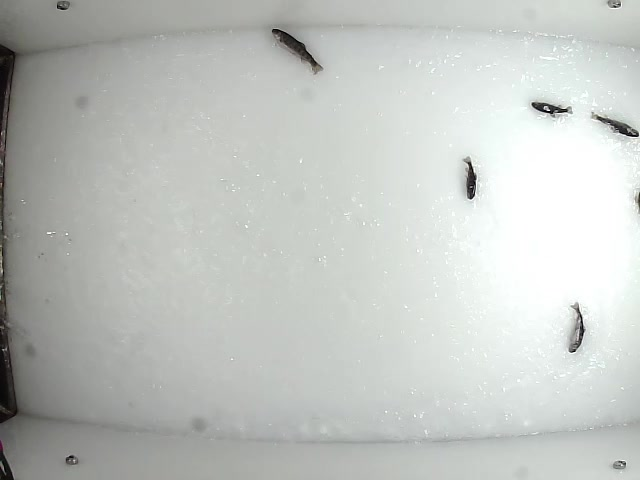fish: (269, 24, 325, 75), (587, 111, 640, 139), (566, 301, 586, 356), (457, 154, 479, 200), (528, 99, 574, 119)
